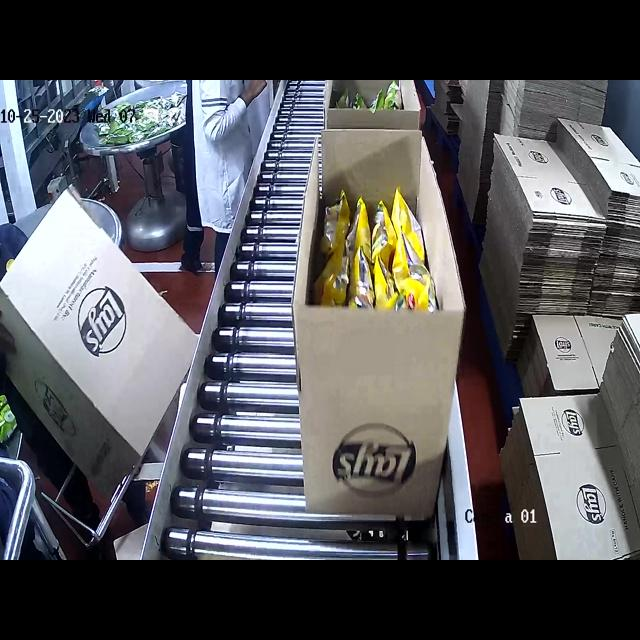salted: (333, 180, 434, 320)
yogurt: (336, 82, 405, 106)
